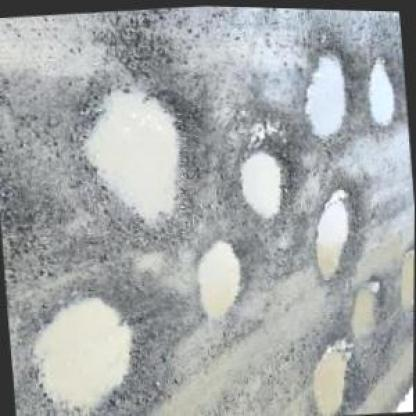pothole: (68, 68, 208, 240), (21, 280, 152, 415), (296, 40, 364, 147), (306, 178, 375, 282), (192, 232, 256, 320), (236, 140, 298, 219), (305, 337, 359, 415), (364, 49, 404, 126), (346, 277, 386, 344)
